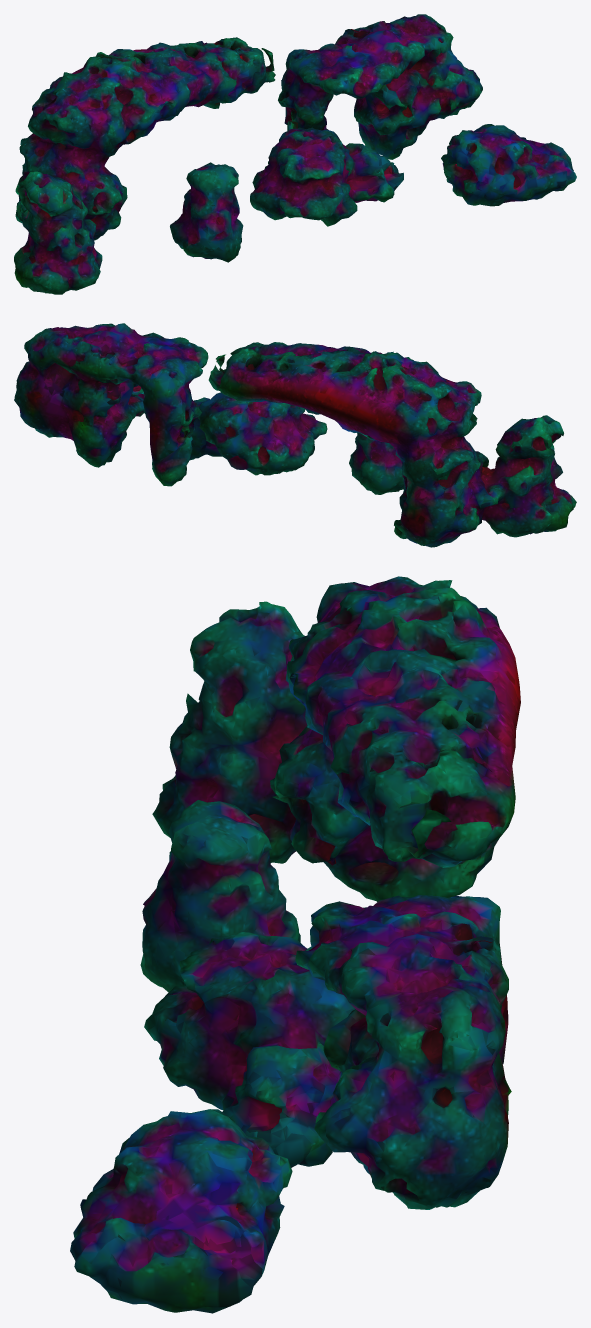
Rendered from rockscape_lod1.glb.
3 renders of one model, top to bottom at view 1: azimuth 30°, elevation 25°; view 2: azimuth 150°, elevation 25°; view 3: azimuth 270°, elevation 25°, orthographic. The views are drawn at different scales.
Visible parts, largest first — view 1: Rock; view 2: Rock; view 3: Rock.
Part boxes in pixels (bbox=[...]): Rock: bbox=[14, 14, 576, 294]; Rock: bbox=[14, 323, 576, 547]; Rock: bbox=[70, 576, 520, 1313].
Bounding box in the file's own units: 122 × 37.4 × 45.11.
Materials: 1 (1 with a texture image).
